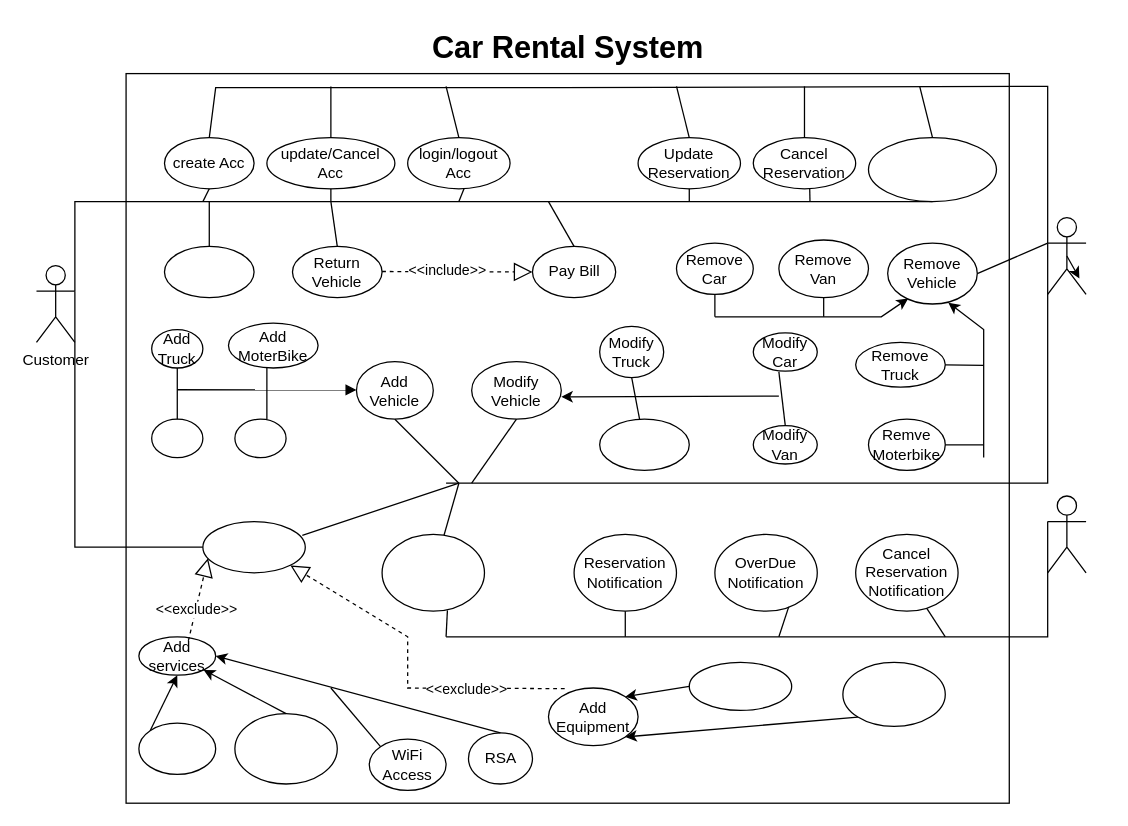
The diagram is 1128 pixels wide and 826 high, and some of its shapes have lost their labels. Here are the shapes that lost their labels. From the top down, the centre of each, then its label:
At (931,169): "Search Invantory Vehicle".
At (208,271): "Pickup Vehicle".
At (1066,255): "Reciptionist".
At (176,438): "Add Car".
At (260,438): "Add Van".
At (643,444): "Modify Moterbike".
At (253,546): "Make Reservation".
At (1066,534): "System".
At (432,572): "Update log".
At (740,685): "Child Seats".
At (893,693): "GPS navigation system".
At (177,748): "Add Additional Driver".
At (285,748): "Add Renatal Insurance".
